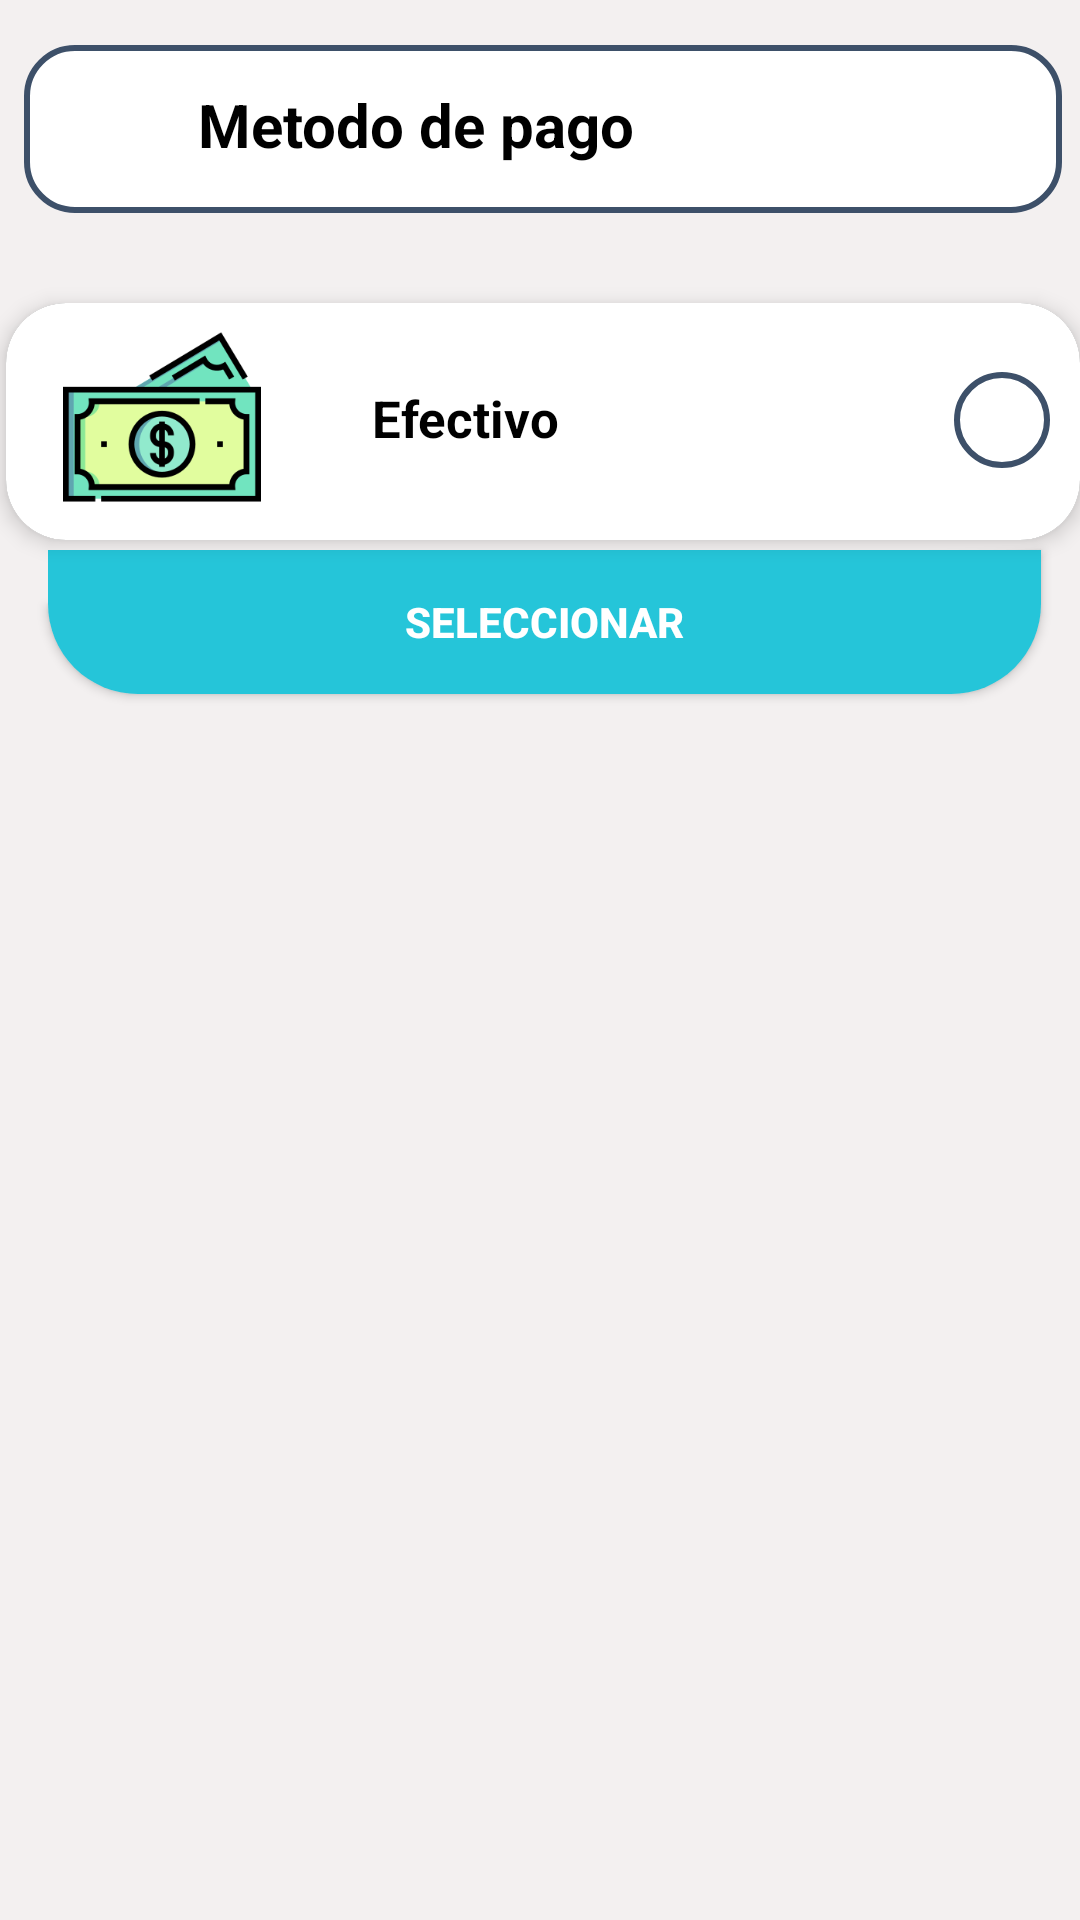

Icon bounding boxes for this 1080×1920 phone screenshot, format (x1, y1, x2, y2):
dinero: (63, 332, 261, 502)
